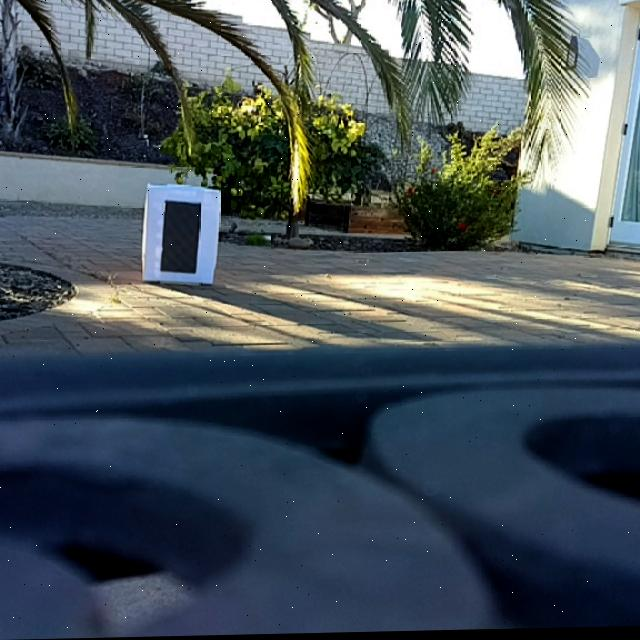led: (163, 201, 200, 274)
